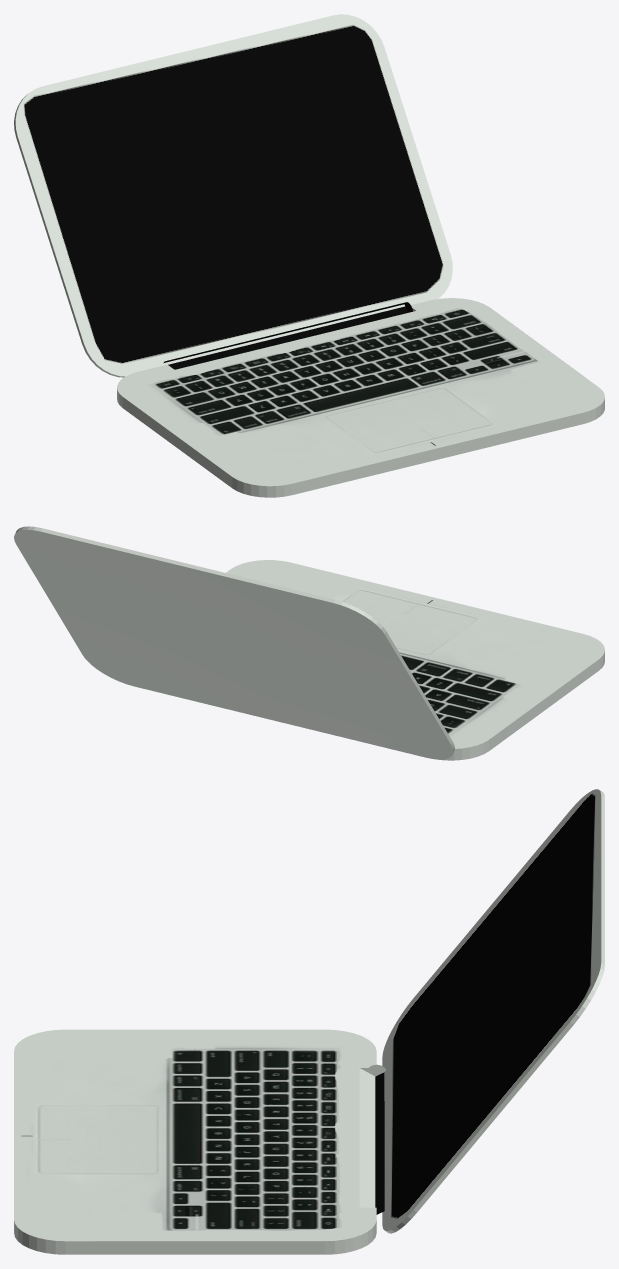
File: Laptop.fbx
The picture shows the model from 3 angles, top to bottom: view 1: azimuth 30°, elevation 25°; view 2: azimuth 150°, elevation 25°; view 3: azimuth 270°, elevation 25°; orthographic projection. The views are drawn at different scales.
Parts seen in each view (by area): view 1: computer; view 2: computer; view 3: computer.
Part boxes in pixels (box(x1,y1,x2,y2)): computer: box(14, 14, 604, 497); computer: box(14, 526, 604, 760); computer: box(14, 789, 604, 1254).
Bounding box in the file's own units: 39.64 × 23.56 × 46.59.
